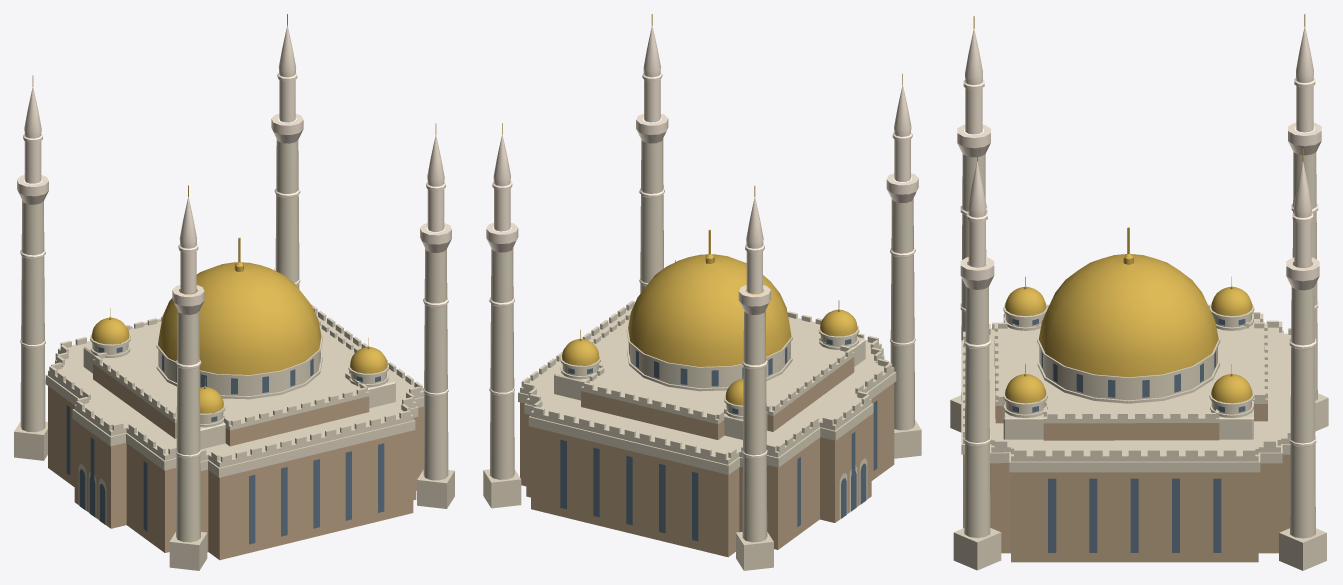
File: abuja-national-mosque.glb
3 renders of one model, left to right at view 1: azimuth 30°, elevation 25°; view 2: azimuth 150°, elevation 25°; view 3: azimuth 270°, elevation 25°, orthographic. The views are drawn at different scales.
Visible parts, largest first — view 1: Abuja National Mosque; view 2: Abuja National Mosque; view 3: Abuja National Mosque.
Part boxes in pixels (left/top/right/bottom): Abuja National Mosque: left=14, top=14, right=454, bottom=570; Abuja National Mosque: left=483, top=14, right=921, bottom=570; Abuja National Mosque: left=950, top=14, right=1328, bottom=570.
Bounding box in the file's own units: 77.35 × 95.15 × 79.3.
